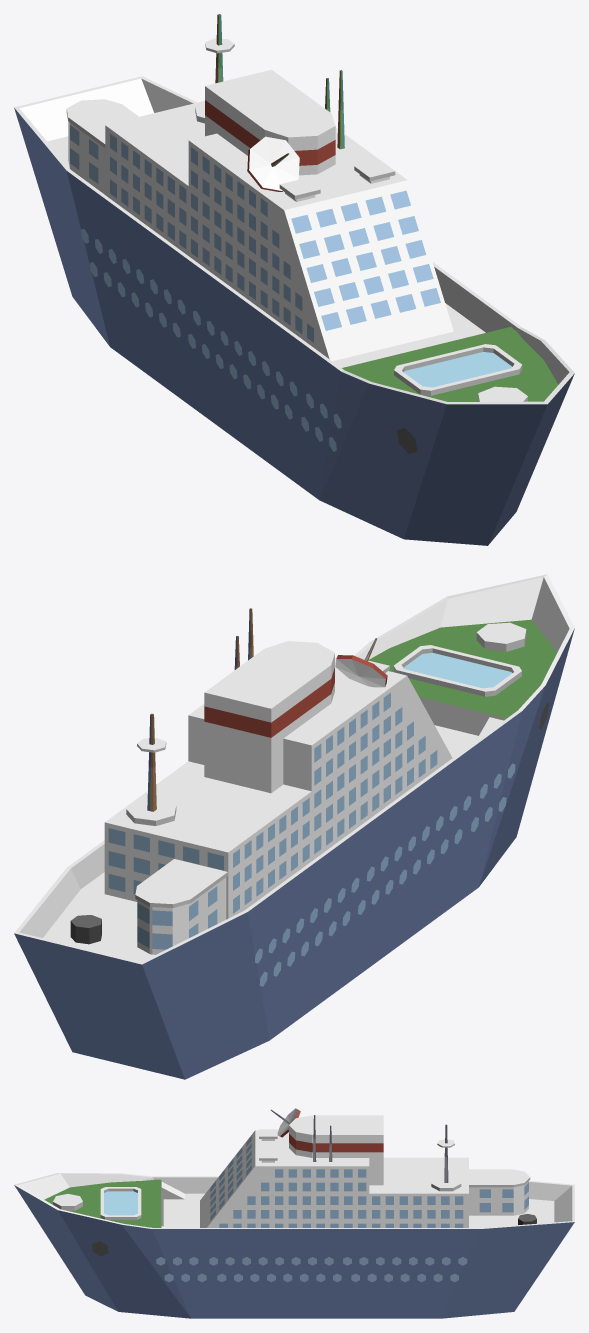
File: transport_water_006.fbx
The picture shows the model from 3 angles, top to bottom: view 1: azimuth 30°, elevation 25°; view 2: azimuth 150°, elevation 25°; view 3: azimuth 270°, elevation 25°; orthographic projection. The views are drawn at different scales.
Visible parts, largest first — view 1: transport_water_006; view 2: transport_water_006; view 3: transport_water_006.
Boxes of the visible parts, bbox=[...] form: transport_water_006: bbox=[14, 14, 574, 545]; transport_water_006: bbox=[14, 574, 574, 1079]; transport_water_006: bbox=[14, 1108, 574, 1318].
Size of the model in its own units: 764 by 1306 by 3432.
